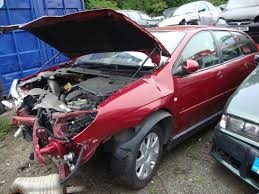Broken-glass: (54, 109, 100, 142)
Dent: (146, 76, 175, 96)
Smashed: (12, 77, 106, 179)
